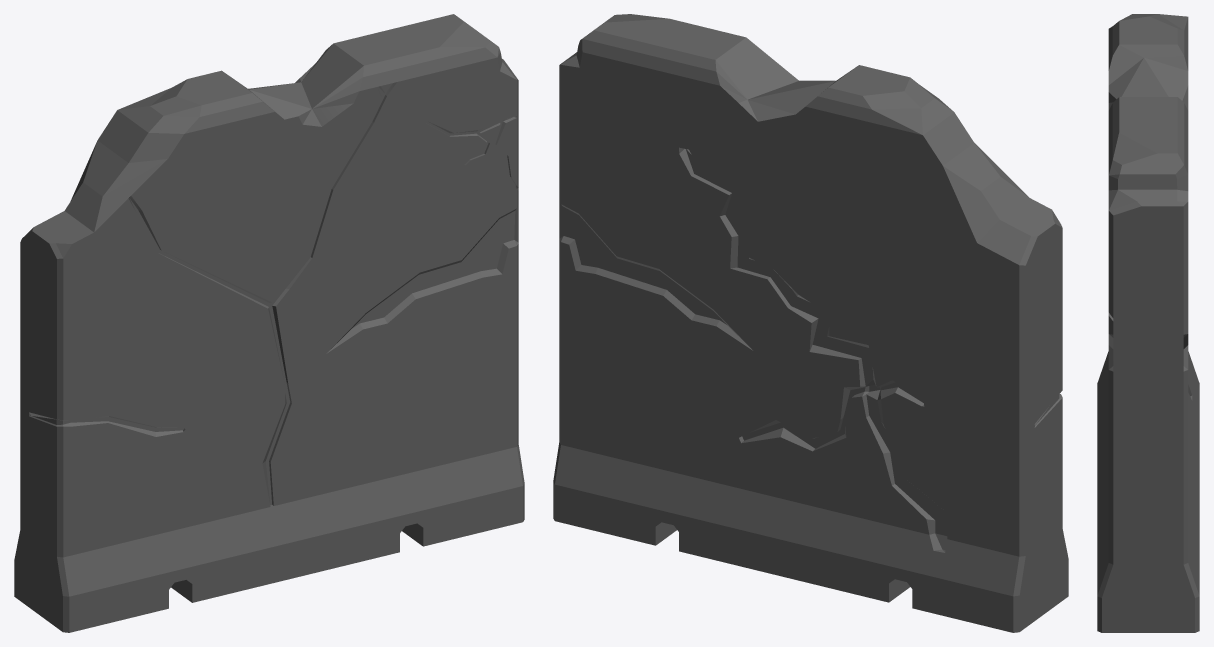
Rendered from barricade1_tall_cracked1.fbx.
The picture shows the model from 3 angles, left to right: view 1: azimuth 30°, elevation 25°; view 2: azimuth 150°, elevation 25°; view 3: azimuth 270°, elevation 25°; orthographic projection. The views are drawn at different scales.
Visible parts, largest first — view 1: Cube; view 2: Cube; view 3: Cube.
Part boxes in pixels (bbox=[...]): Cube: bbox=[14, 14, 524, 632]; Cube: bbox=[553, 14, 1068, 632]; Cube: bbox=[1097, 14, 1199, 632].
Size of the model in its own units: 400 by 401 by 80.
